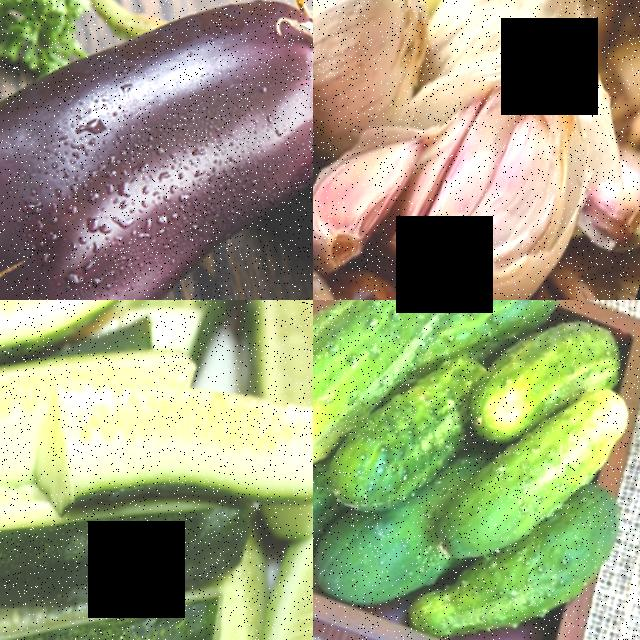cucumber: (58, 329, 313, 562), (313, 332, 479, 543), (414, 418, 589, 603), (480, 474, 638, 640), (0, 426, 121, 640), (0, 532, 239, 640), (449, 305, 586, 468), (313, 300, 413, 511), (313, 494, 445, 640), (0, 300, 152, 417), (431, 300, 583, 372)
eggplant: (0, 0, 313, 300)
garlic: (358, 65, 601, 300), (313, 0, 476, 155), (313, 111, 423, 290)
